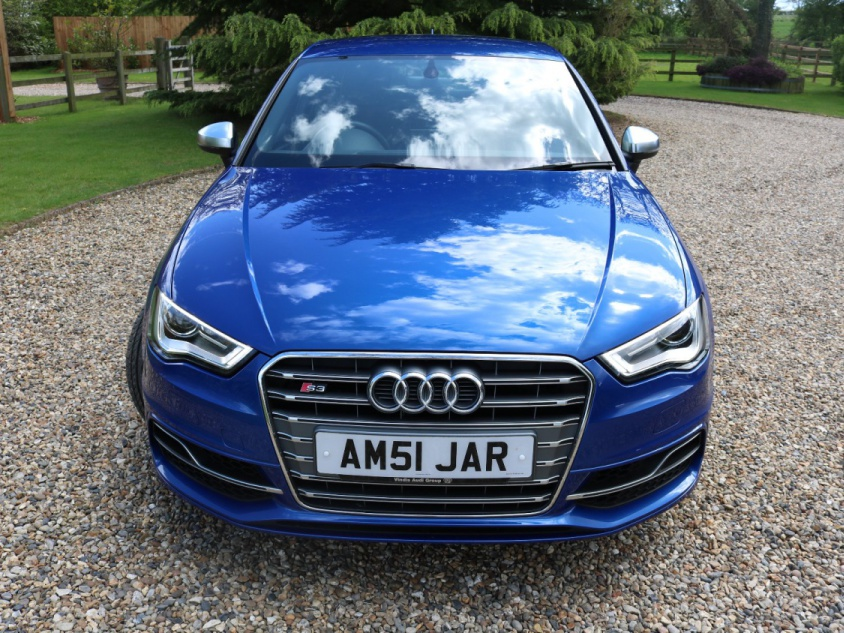audi: (354, 365, 493, 415)
